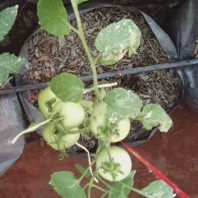tomato: (87, 97, 135, 145), (92, 144, 136, 188), (45, 122, 82, 154), (36, 86, 62, 121), (57, 102, 86, 133)
